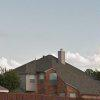Chimney: (52, 45, 75, 68)
